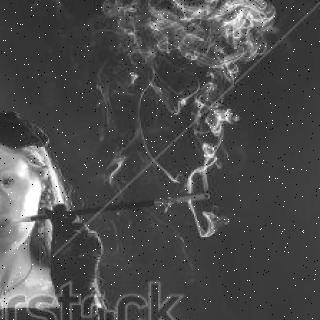smoke: (112, 0, 276, 181)
